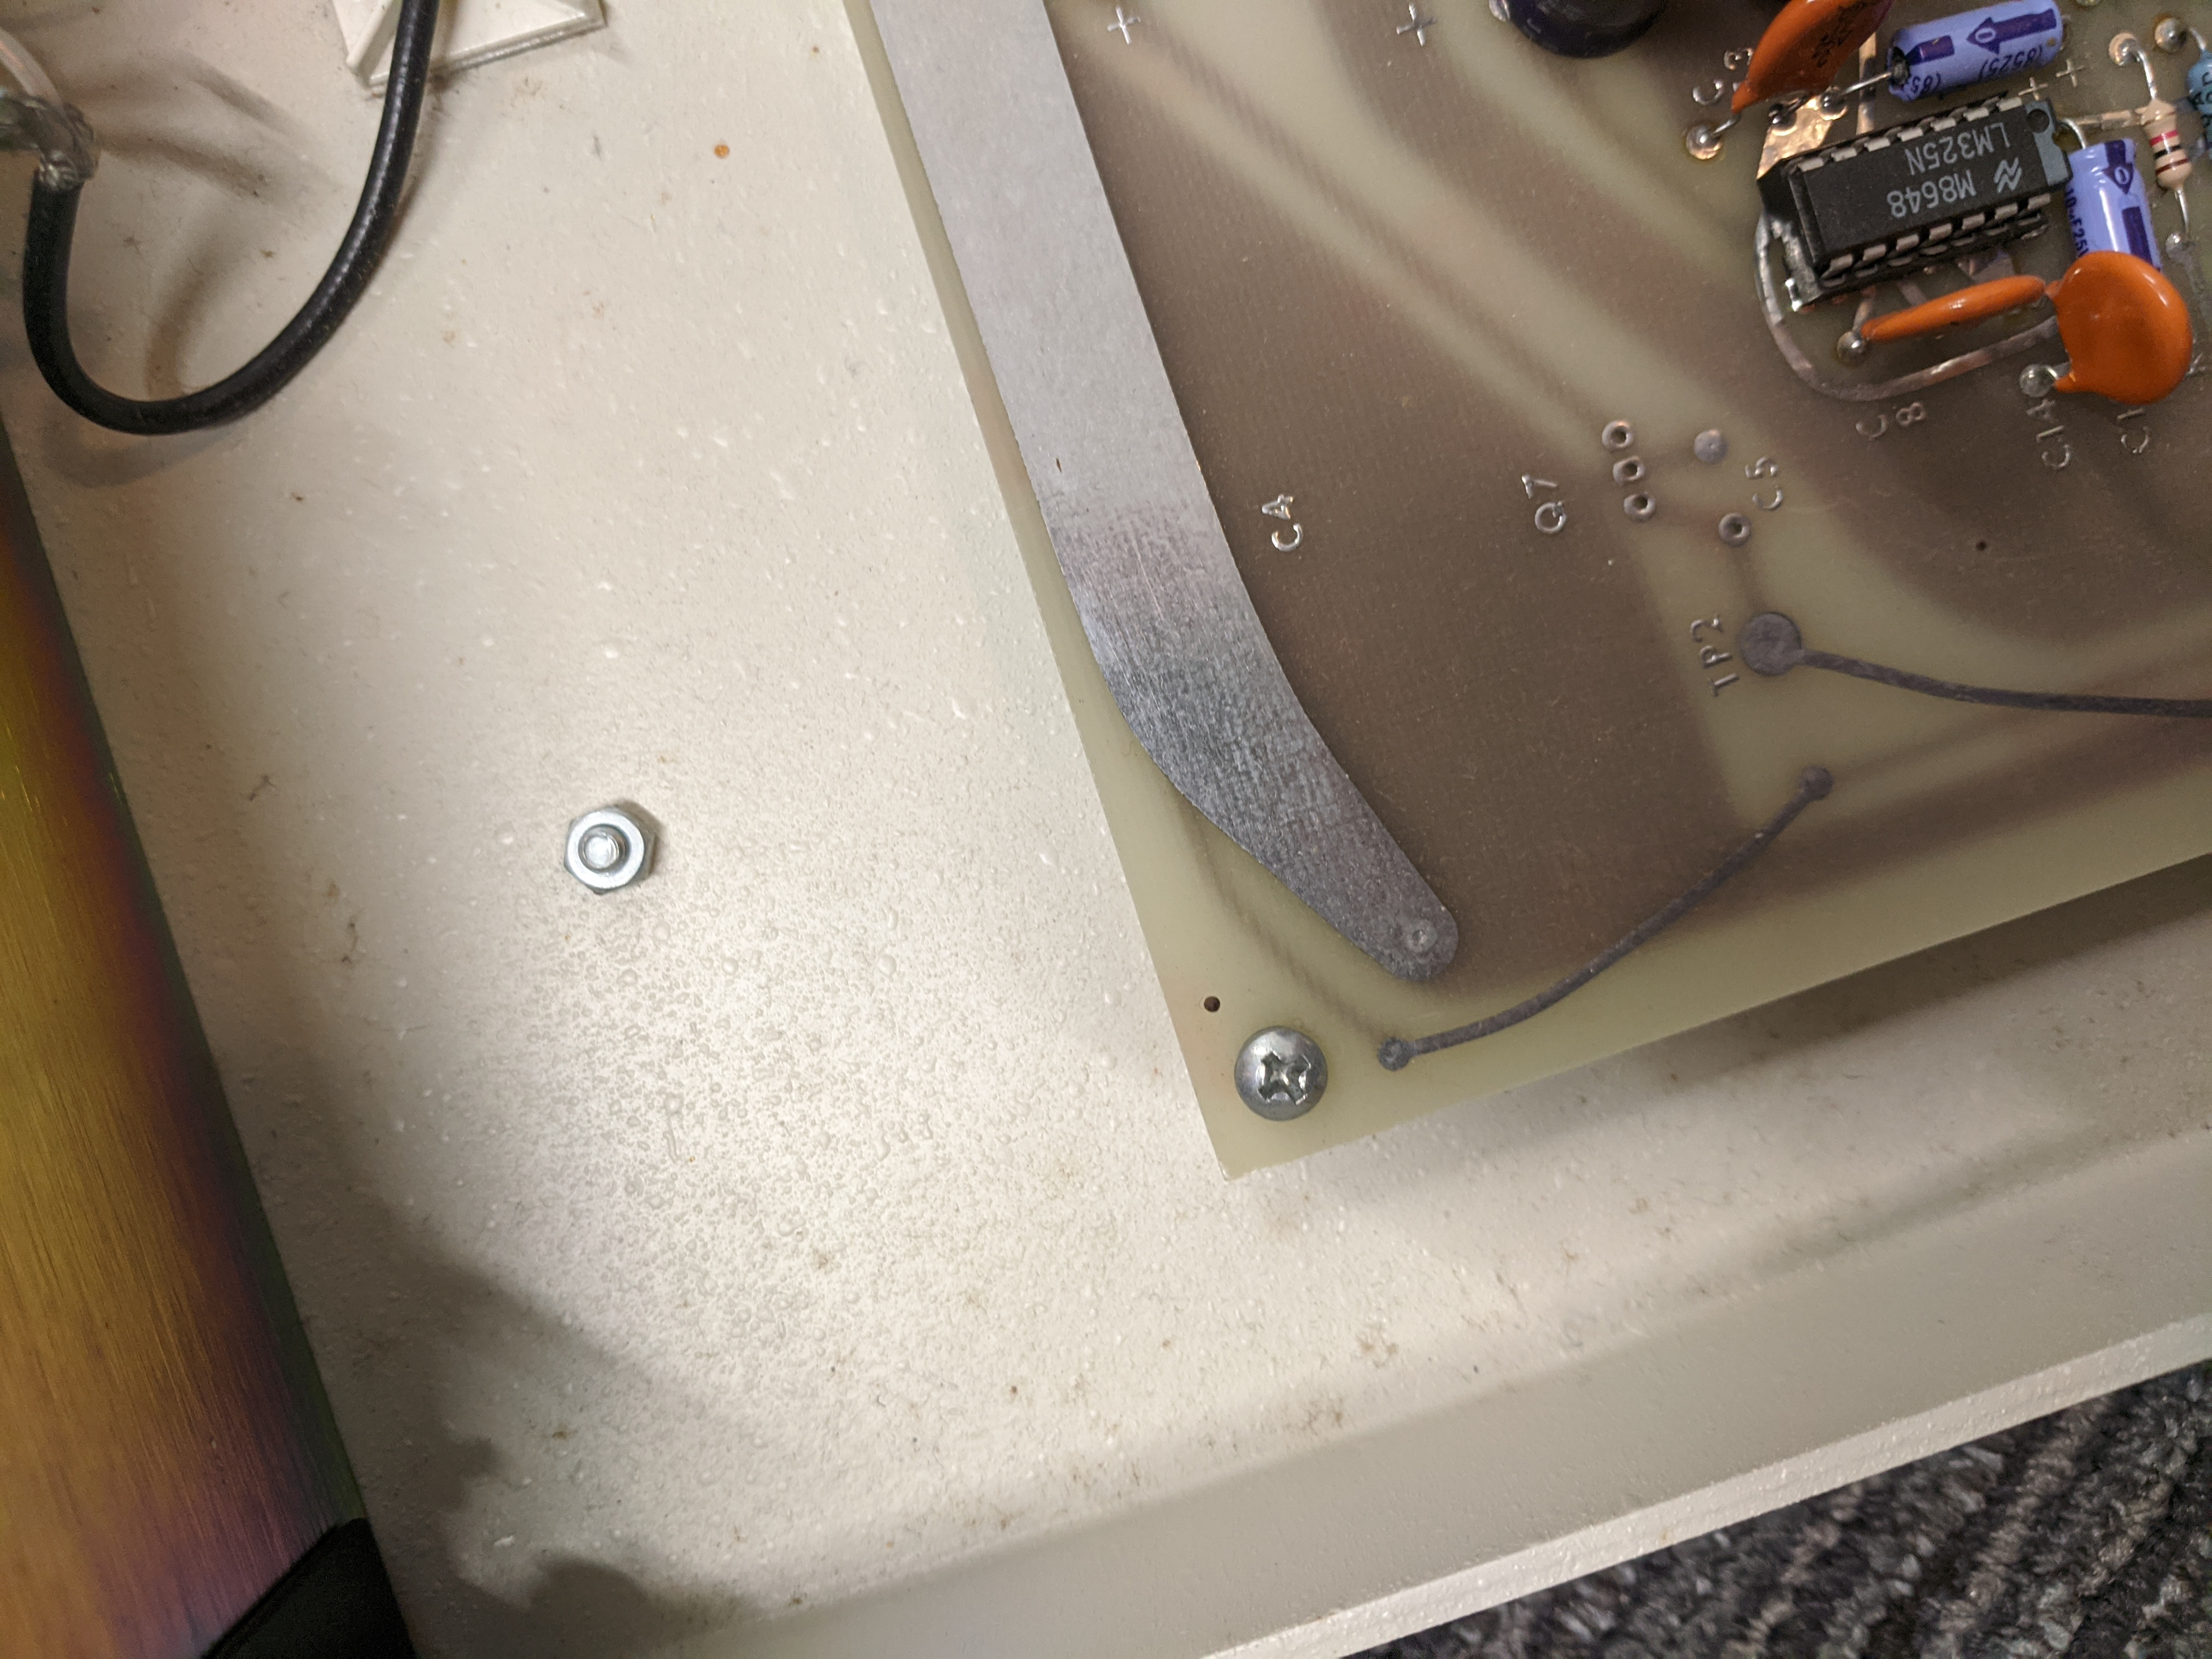cross_recessed_screw: (1223, 999, 1348, 1127)
